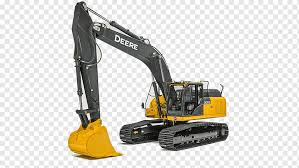excavator: (60, 3, 232, 156)
